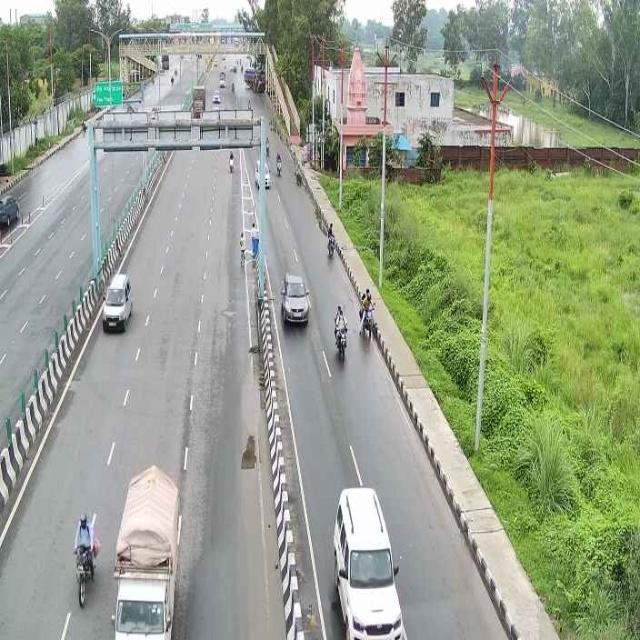car: (110, 461, 186, 640), (326, 477, 407, 640), (98, 269, 136, 334), (277, 266, 312, 329)
